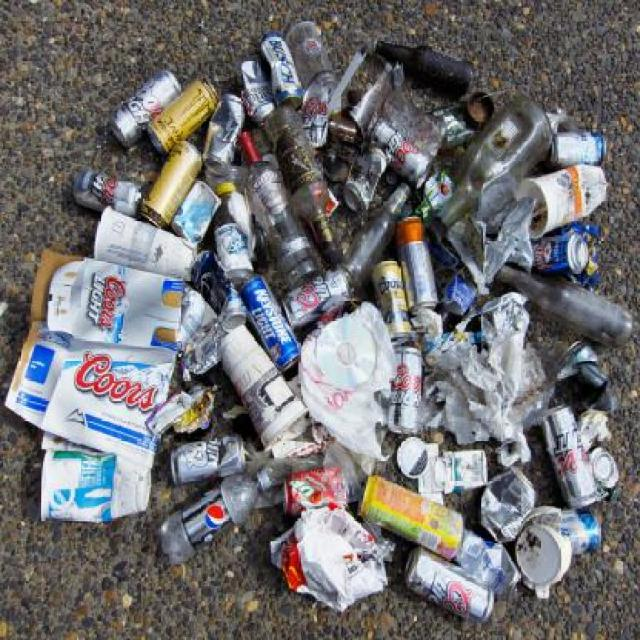garbage: (98, 65, 610, 590), (35, 188, 96, 515), (258, 11, 450, 66)
